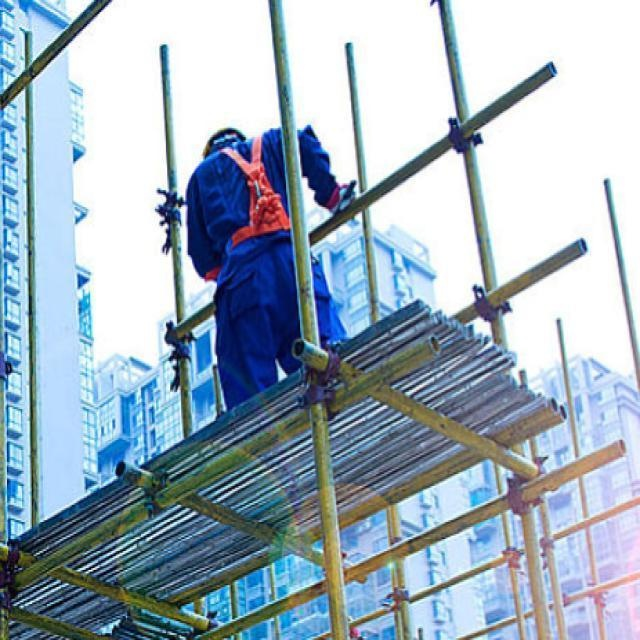Arnes_seguridad: (207, 127, 292, 255)
